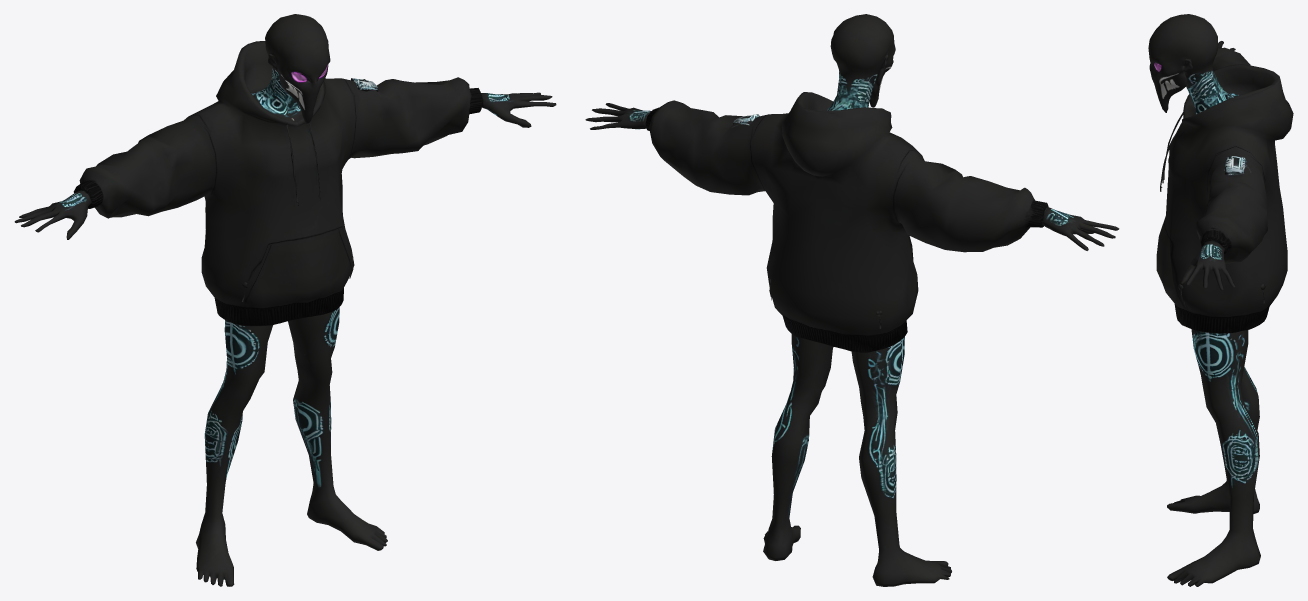
The picture shows the model from 3 angles, left to right: view 1: azimuth 30°, elevation 25°; view 2: azimuth 150°, elevation 25°; view 3: azimuth 270°, elevation 25°; orthographic projection. The views are drawn at different scales.
Parts seen in each view (by area): view 1: tripo_node_8d25c10d-1fcb-48c9-897e-68e778544ca0; view 2: tripo_node_8d25c10d-1fcb-48c9-897e-68e778544ca0; view 3: tripo_node_8d25c10d-1fcb-48c9-897e-68e778544ca0.
Boxes of the visible parts, box(x1,y1,x2,y2) form: tripo_node_8d25c10d-1fcb-48c9-897e-68e778544ca0: box(14, 14, 556, 586); tripo_node_8d25c10d-1fcb-48c9-897e-68e778544ca0: box(585, 14, 1119, 586); tripo_node_8d25c10d-1fcb-48c9-897e-68e778544ca0: box(1148, 14, 1293, 586).
Bounding box in the file's own units: 0.998 × 0.9785 × 0.2441.
Materials: 1 (1 with a texture image).
